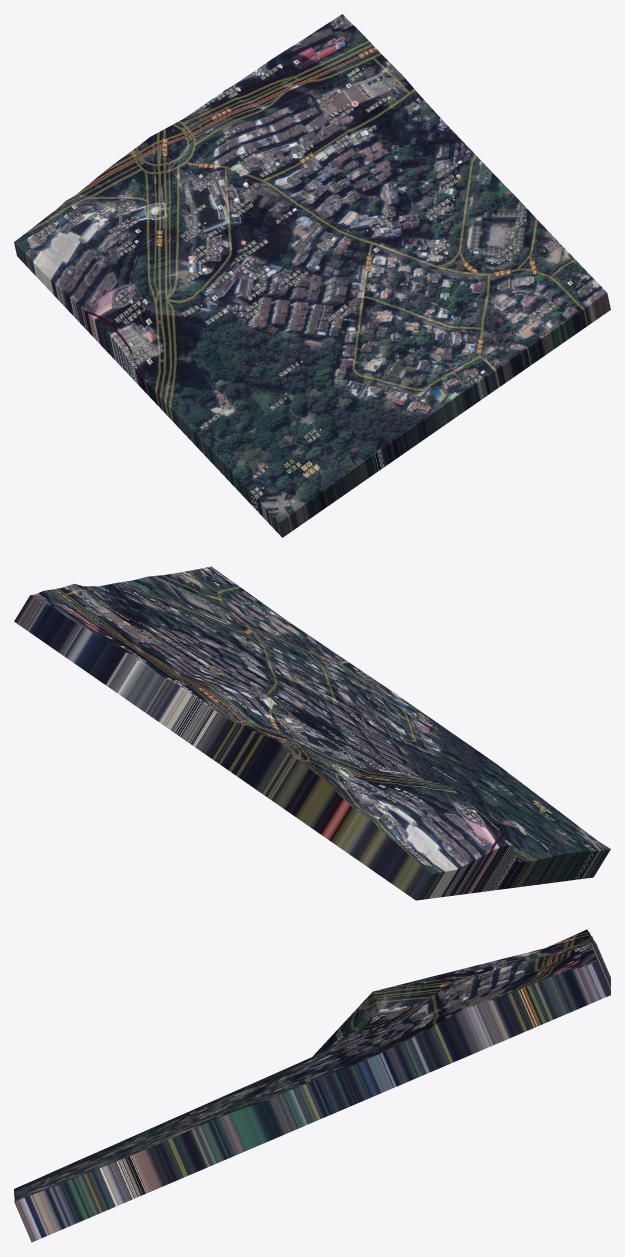
3 views of the same model, one above another, from view 1: azimuth 30°, elevation 25°; view 2: azimuth 150°, elevation 25°; view 3: azimuth 270°, elevation 25° (orthographic). The views are drawn at different scales.
Parts seen in each view (by area): view 1: 0_7_16; view 2: 0_7_16; view 3: 0_7_16.
Boxes of the visible parts, box(x1,y1,x2,y2) form: 0_7_16: box(14, 14, 610, 537); 0_7_16: box(14, 566, 610, 900); 0_7_16: box(14, 929, 610, 1242).
Size of the model in its own units: 605 by 457 by 558.
1 material, 1 textured.
